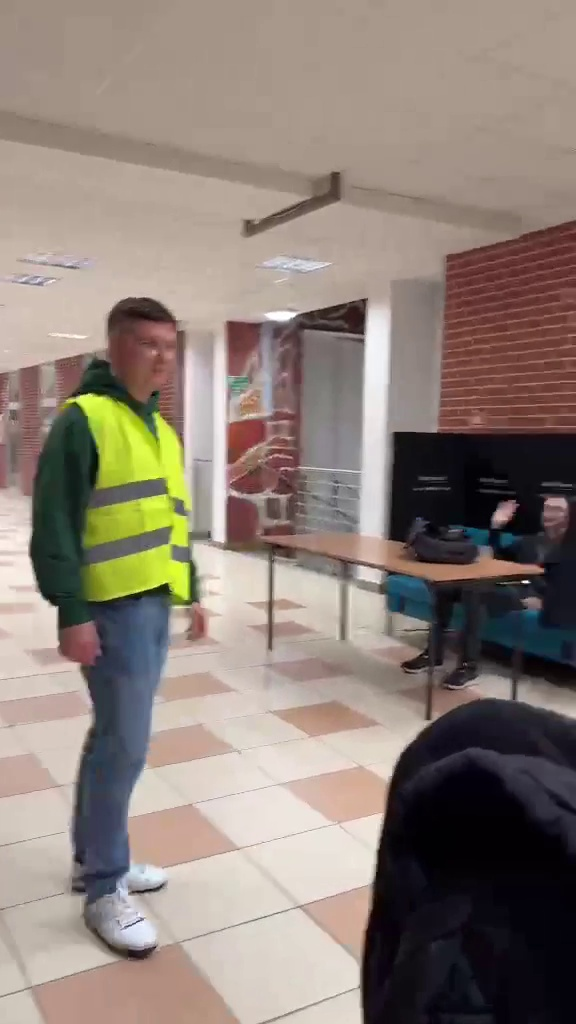no vest: (414, 475, 575, 660)
vest: (33, 295, 229, 951)
